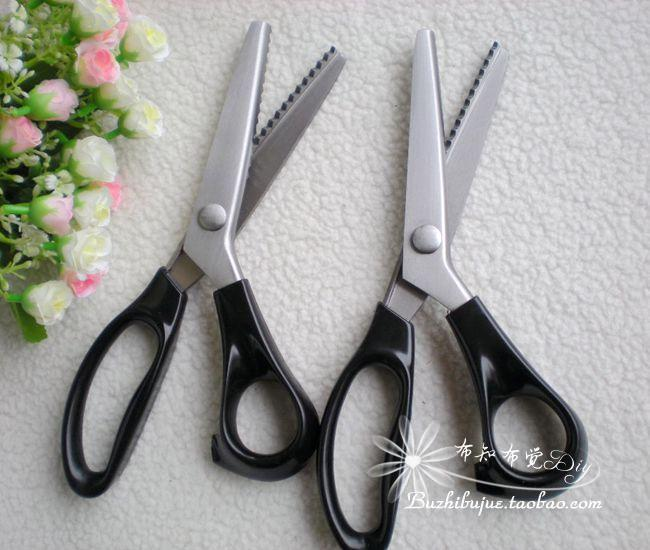scissor: (79, 19, 603, 503)
